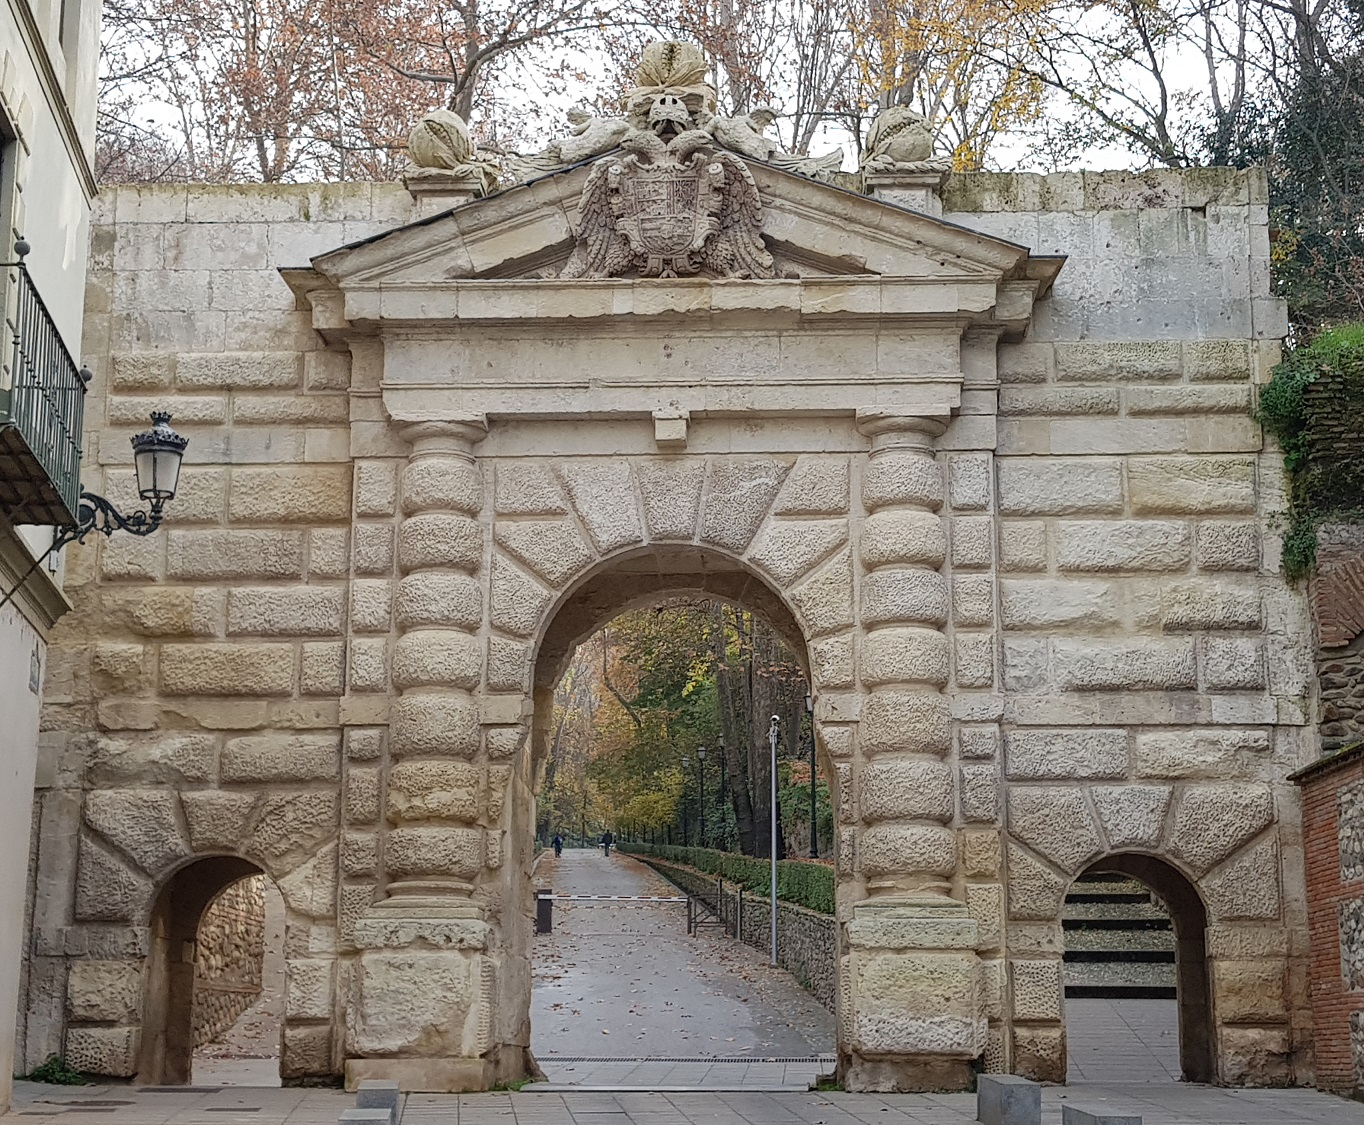arco-medio-punto: (512, 531, 832, 736), (1050, 835, 1221, 958), (137, 841, 301, 958)
fronton: (302, 138, 1031, 327)
